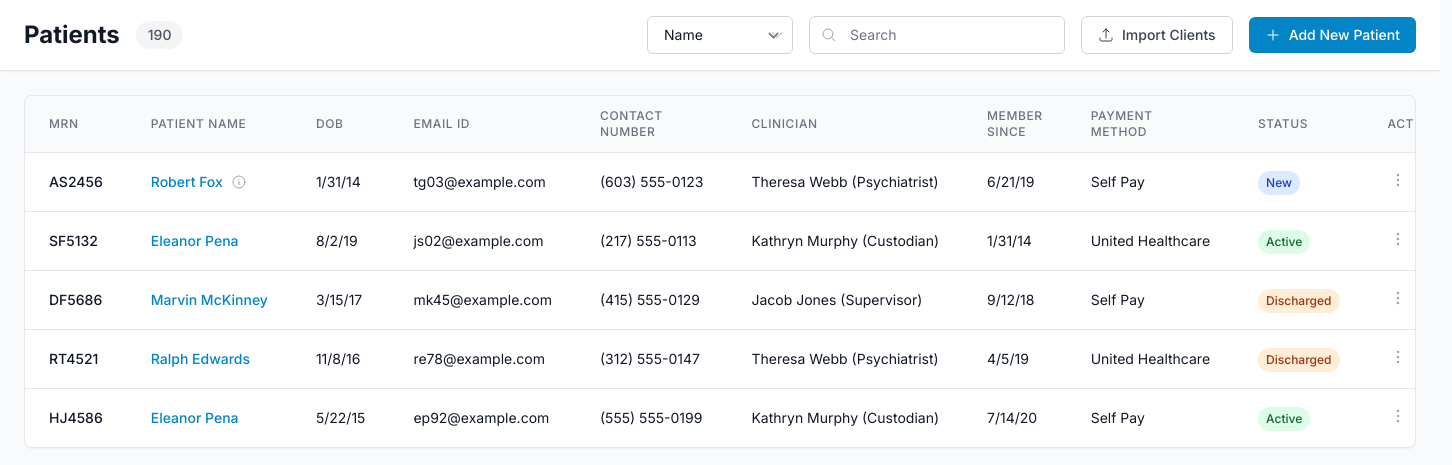
ProviderDashboard › filters patients by search term
In the field with placeholder "Search": (937,35) [809,16,1065,54], type "Robert"
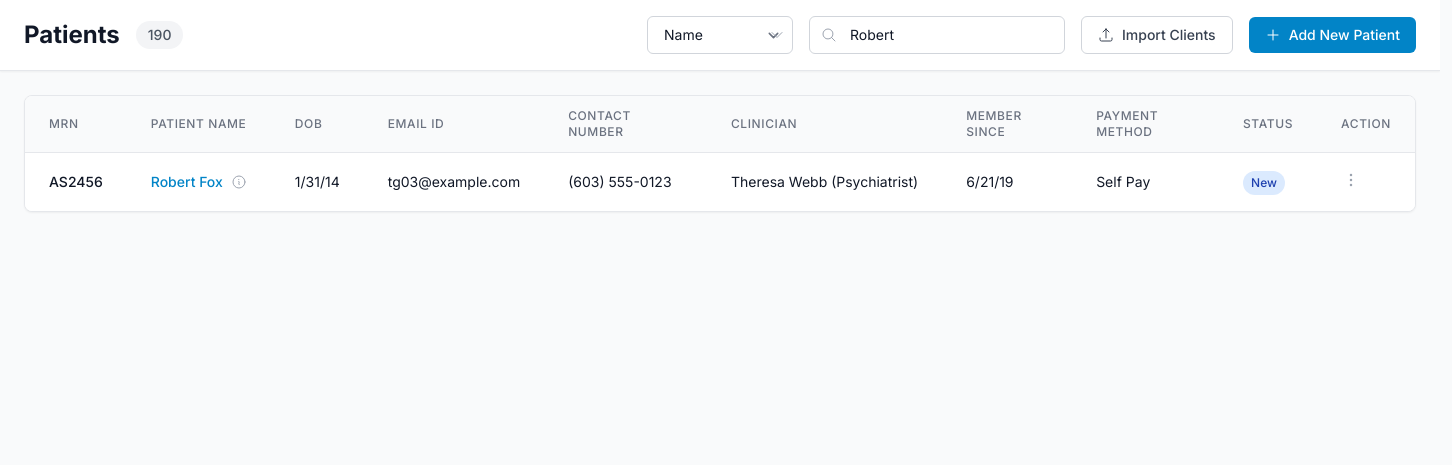
expect the button "Robert Fox" is shown: met, box [151,172,223,192]
expect the button "Eleanor Pena" is gone: met
